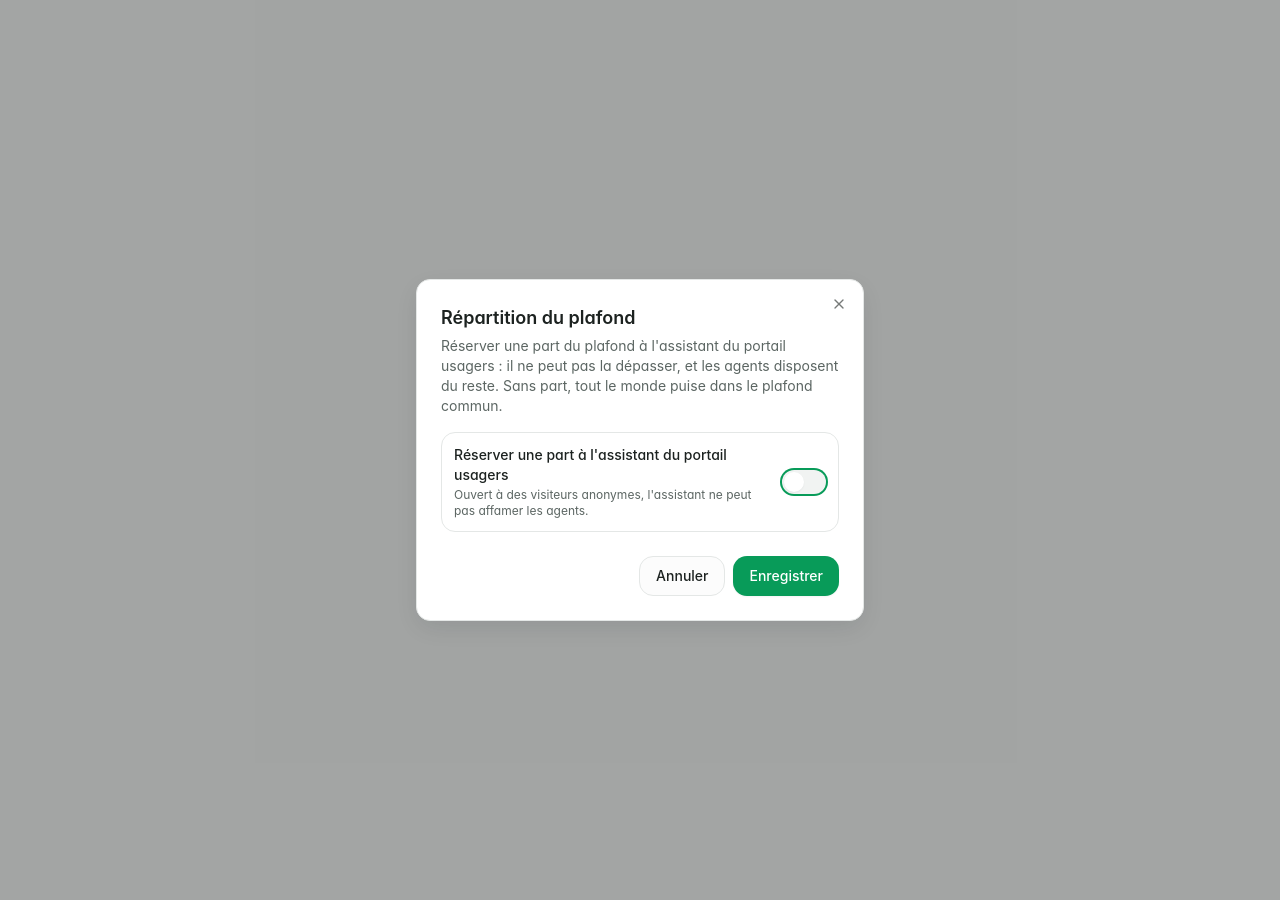
Test case: AiShareDialog — la répartition du plafond › avertit quand une part en jetons prend tout le plafond
Click the switch named "Réserver une part à l'assistant du portail usagers". click: (804, 482)
box: [782,470,826,494]
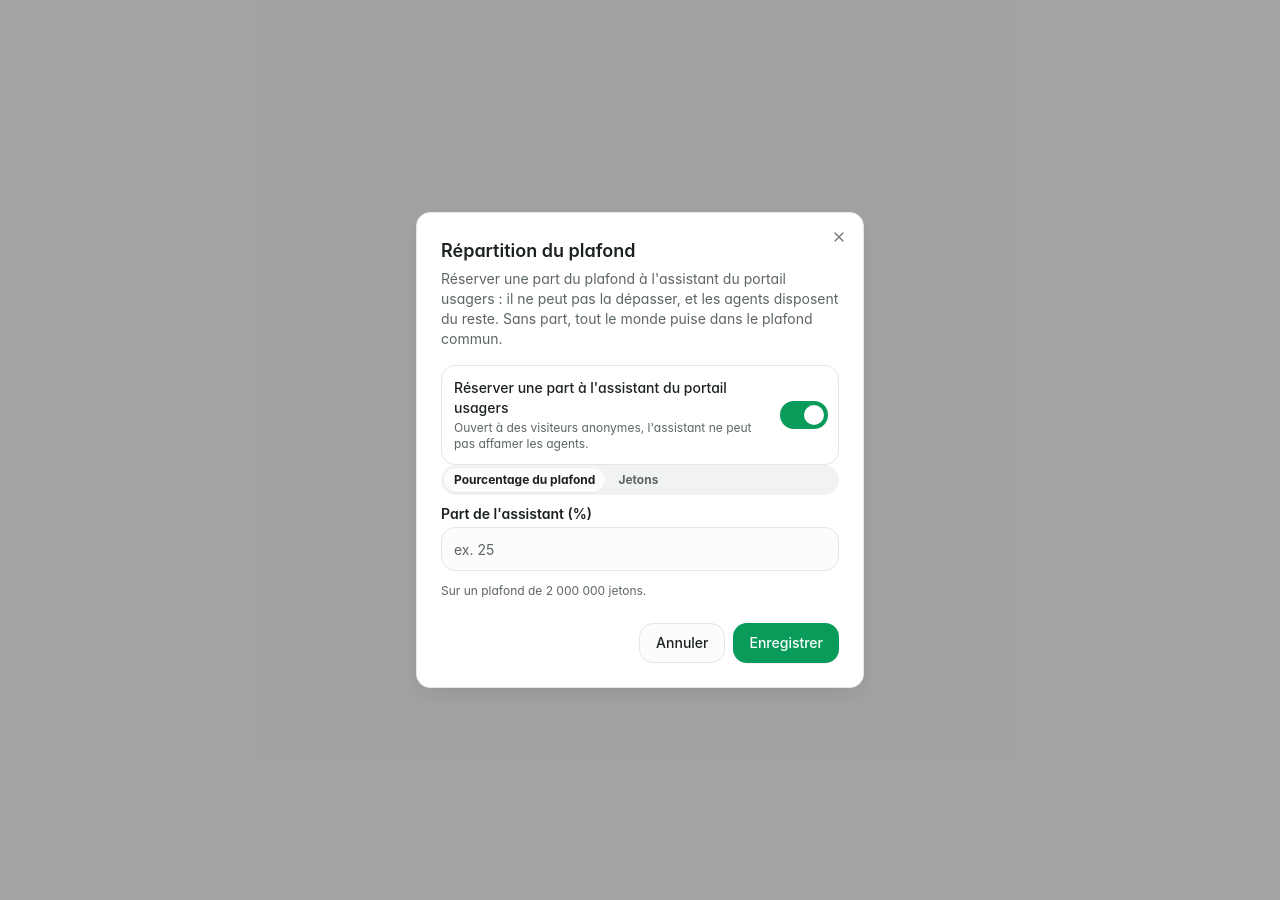
Click the tab "Jetons". click: (638, 480)
box: [608,468,668,492]
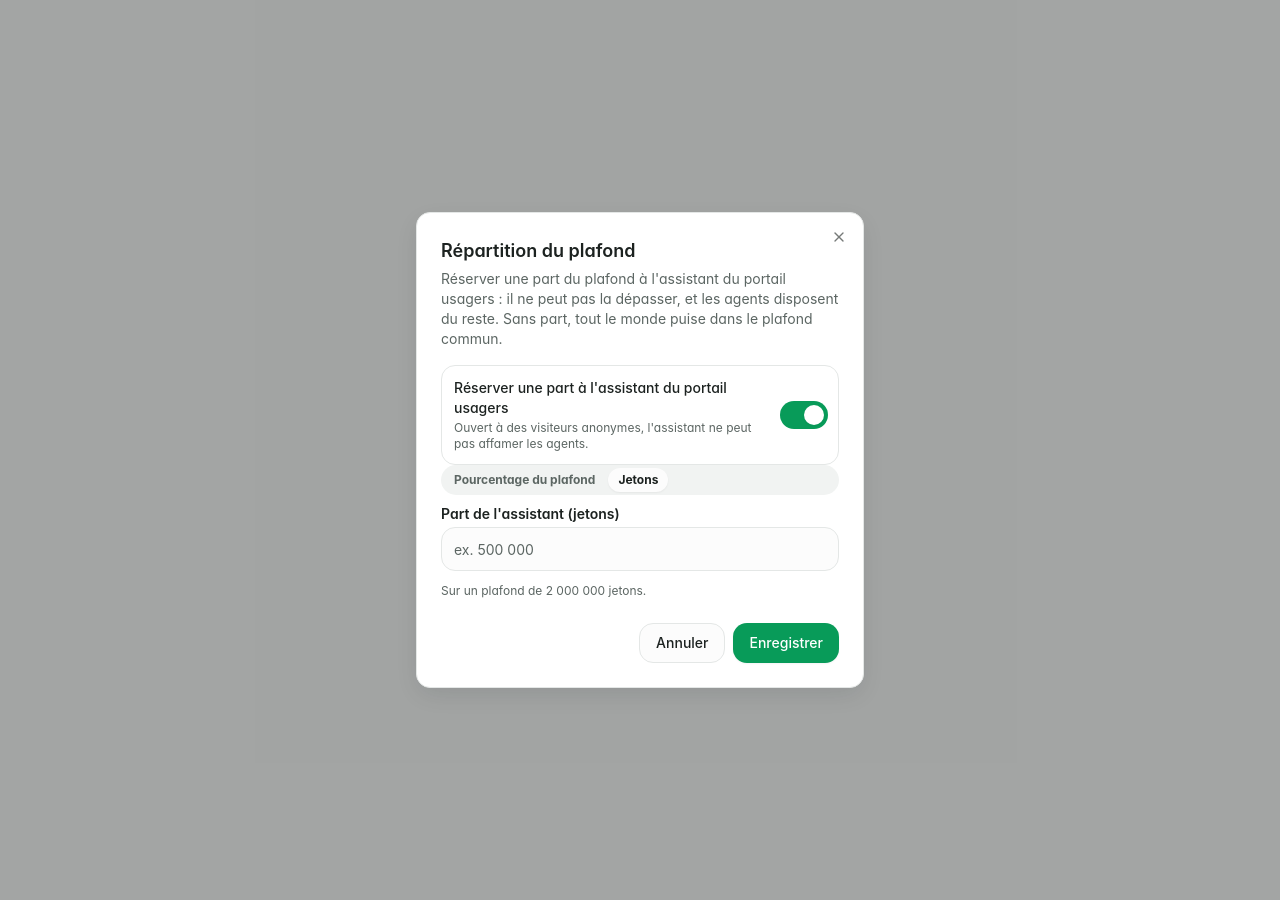
Type "2000000" into the field labelled "Part de l'assistant (jetons)". click: (640, 549)
box: [441,527,839,571]
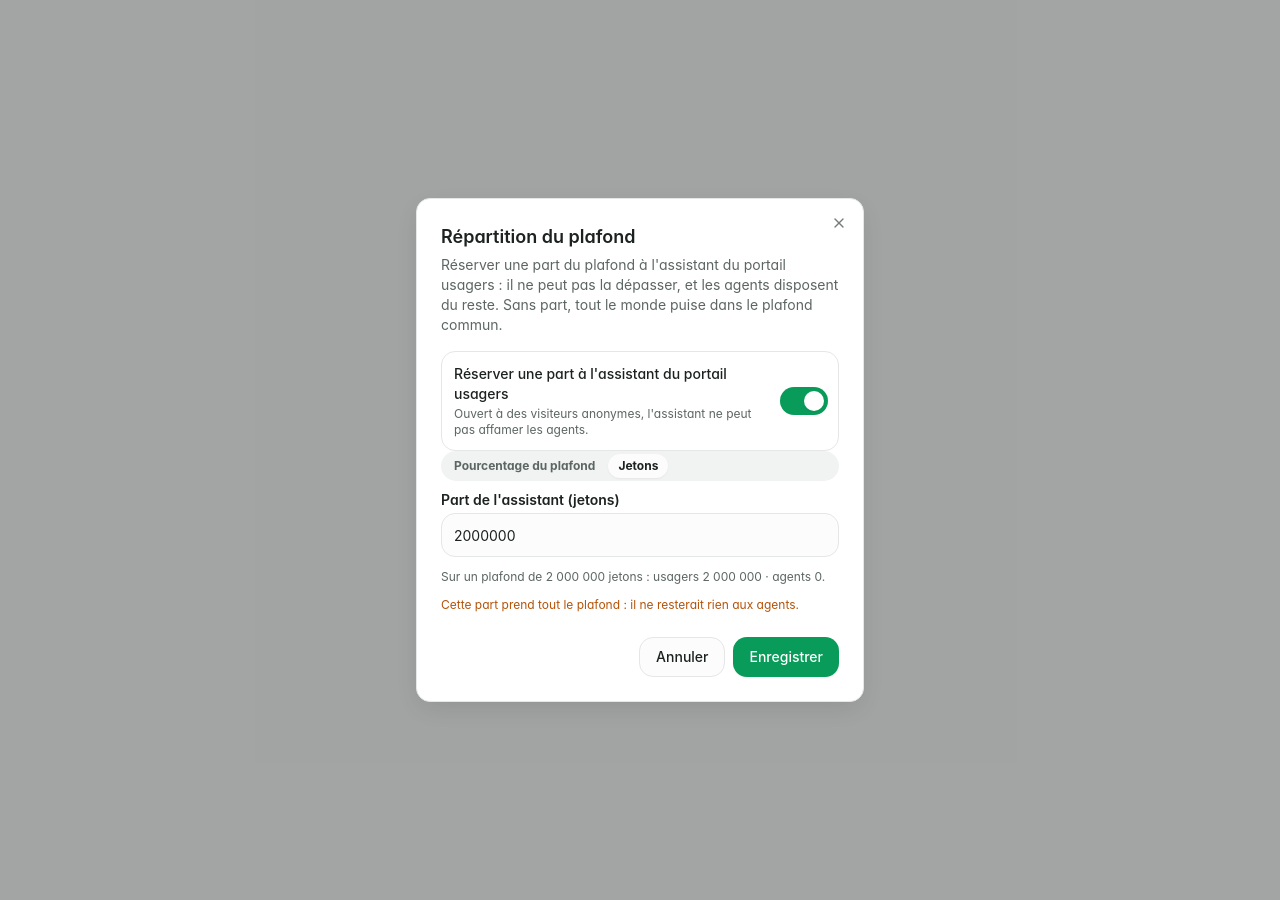
Now the text "il ne resterait rien aux agents" is shown, box [441,597,799,612]
